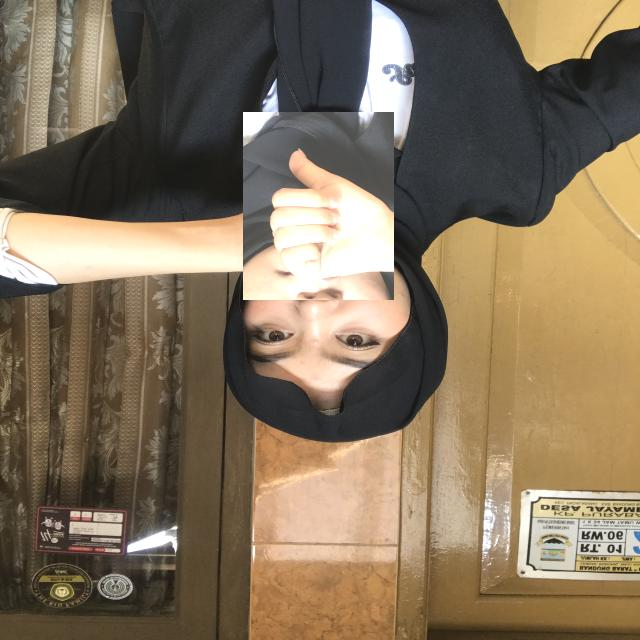sedih: (243, 112, 394, 300)
